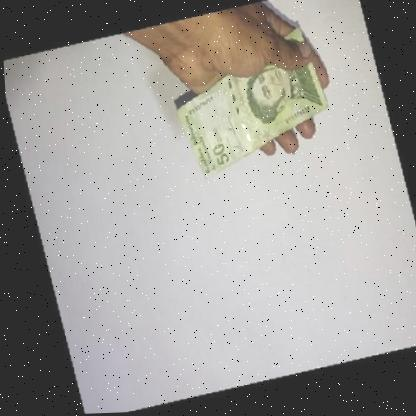vef_front: (165, 26, 333, 183)
